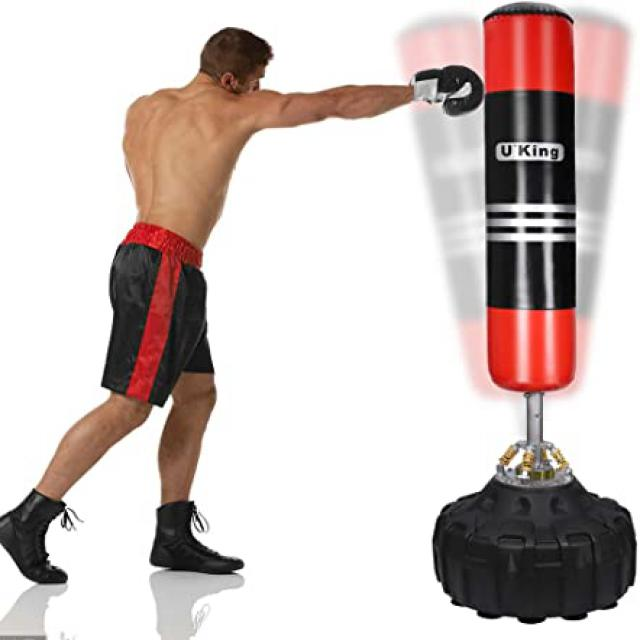Punching Bag: (471, 0, 592, 398)
